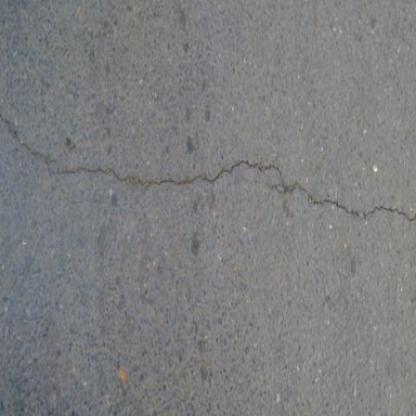Cracks: (0, 114, 415, 231)
